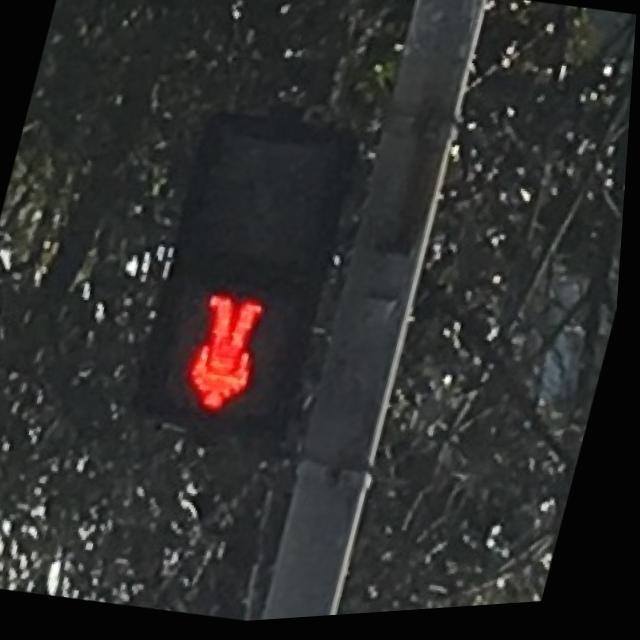red_light: (157, 281, 304, 442)
